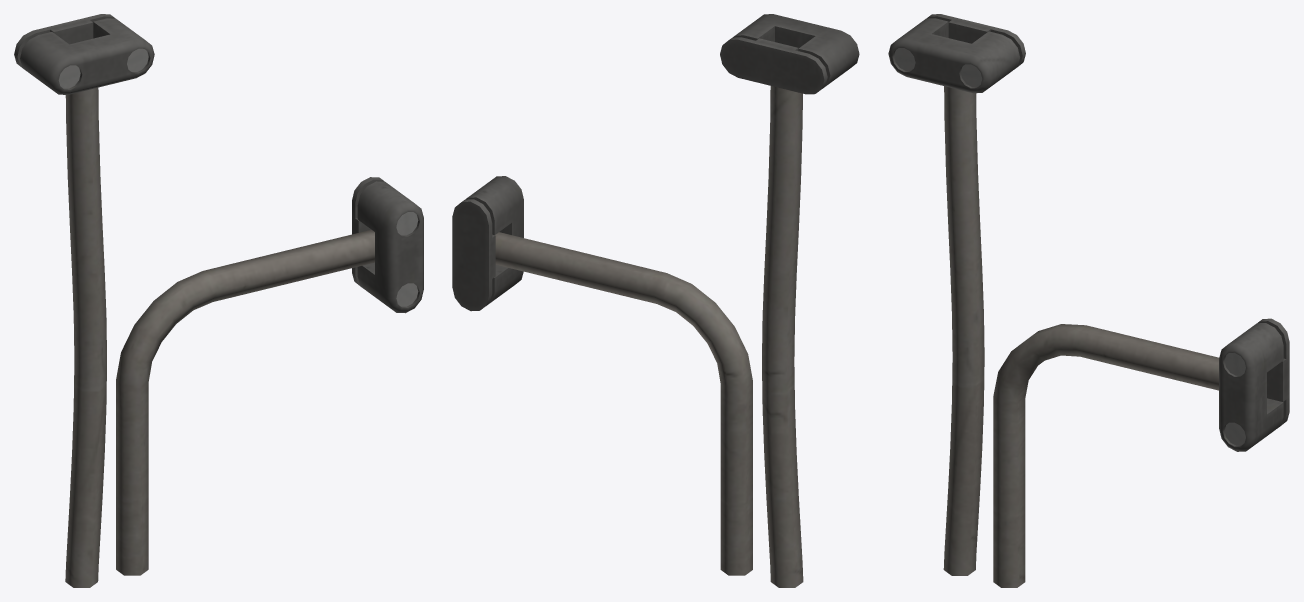
Rendered from cable_double_junction.glb.
3 views of the same model, side by side, from view 1: azimuth 30°, elevation 25°; view 2: azimuth 150°, elevation 25°; view 3: azimuth 330°, elevation 25° (orthographic). The views are drawn at different scales.
Parts seen in each view (by area): view 1: cable_double_junction.001; view 2: cable_double_junction.001; view 3: cable_double_junction.001.
Part boxes in pixels (<box>): cable_double_junction.001: <box>14,14,423,587</box>; cable_double_junction.001: <box>452,14,859,587</box>; cable_double_junction.001: <box>888,14,1289,587</box>.
Bounding box in the file's own units: 0.1481 × 0.2073 × 0.0259.
Materials: 1 (1 with a texture image).
